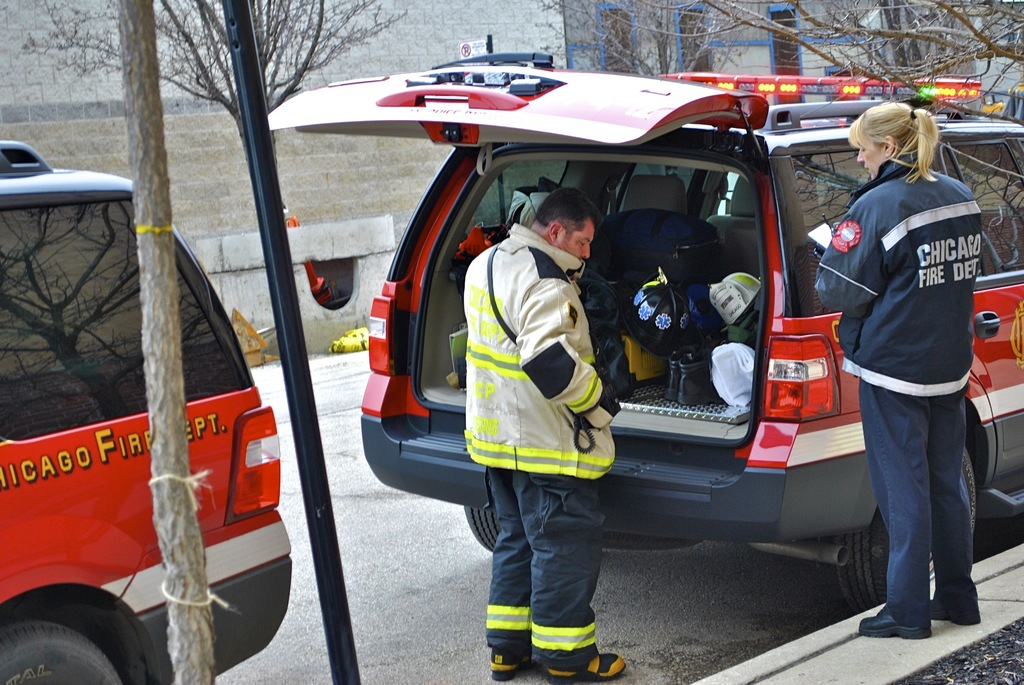Tree: (17, 0, 418, 212), (527, 0, 1024, 130)
